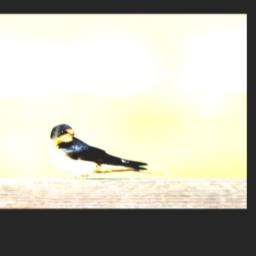Swallow: (48, 123, 167, 182)
